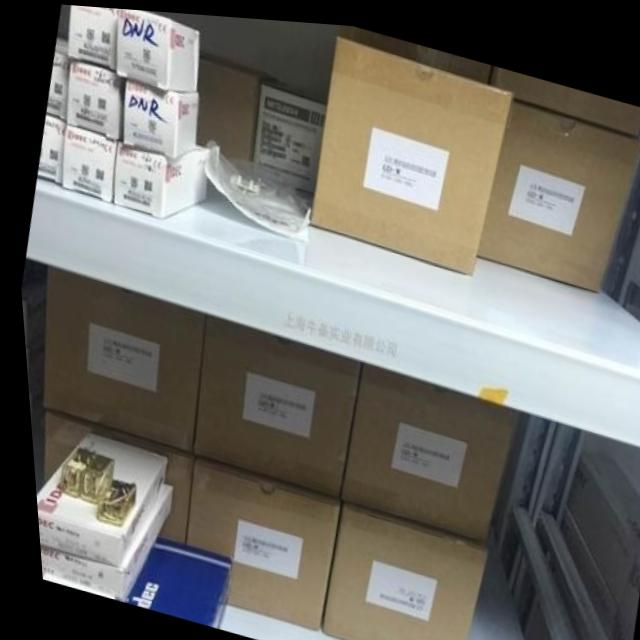box: (305, 29, 512, 268), (475, 92, 640, 283), (334, 356, 512, 531), (35, 263, 200, 450), (186, 311, 355, 493), (176, 455, 333, 627), (312, 497, 479, 640), (36, 411, 189, 540), (29, 432, 161, 564), (32, 484, 164, 597), (560, 445, 638, 594), (487, 57, 640, 124), (114, 534, 224, 626), (197, 46, 278, 156), (252, 78, 326, 186), (111, 140, 208, 216), (552, 498, 609, 621), (115, 7, 200, 87), (122, 76, 198, 156), (65, 58, 122, 138), (58, 122, 115, 201), (414, 37, 490, 77), (68, 4, 117, 66), (600, 550, 630, 640), (34, 113, 65, 183), (45, 37, 69, 118), (514, 590, 542, 640), (17, 286, 39, 345), (20, 338, 38, 387), (23, 382, 37, 431)
